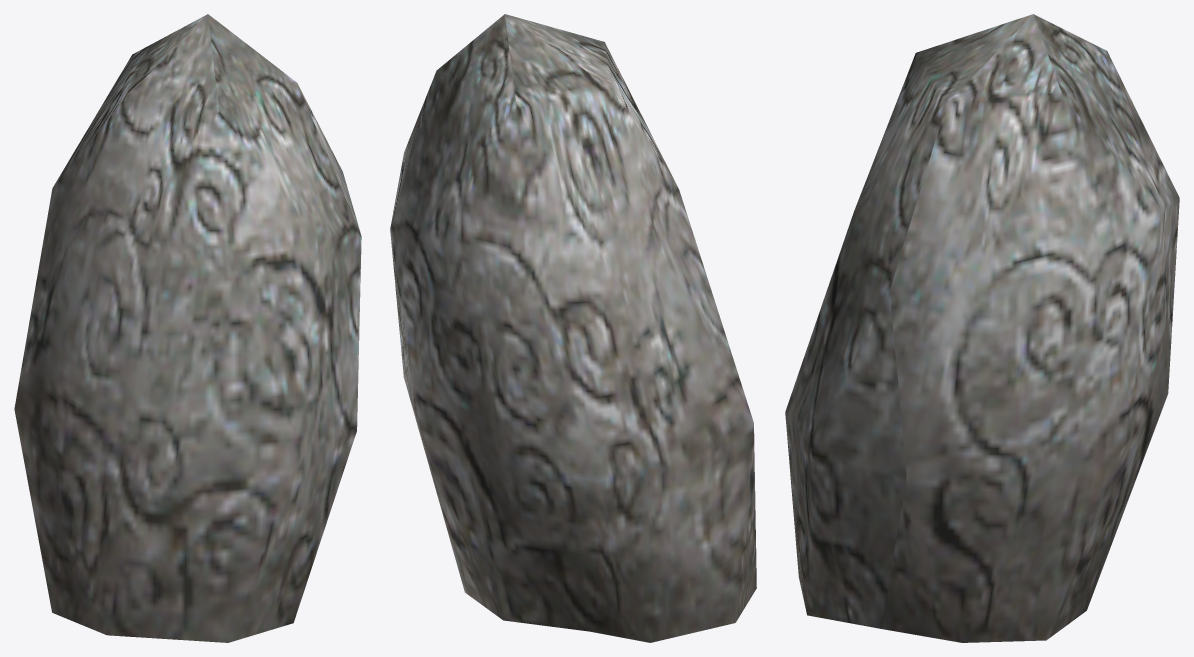
Rendered from standingstone_b.dae.
3 views of the same model, side by side, from view 1: azimuth 30°, elevation 25°; view 2: azimuth 150°, elevation 25°; view 3: azimuth 270°, elevation 25° (orthographic). The views are drawn at different scales.
Visible parts, largest first — view 1: Object035; view 2: Object035; view 3: Object035.
Part boxes in pixels (box(x1,y1,x2,y2)): Object035: box(14, 14, 361, 642); Object035: box(390, 14, 756, 642); Object035: box(785, 14, 1179, 642).
Bounding box in the file's own units: 1.9 × 3.22 × 1.89.
